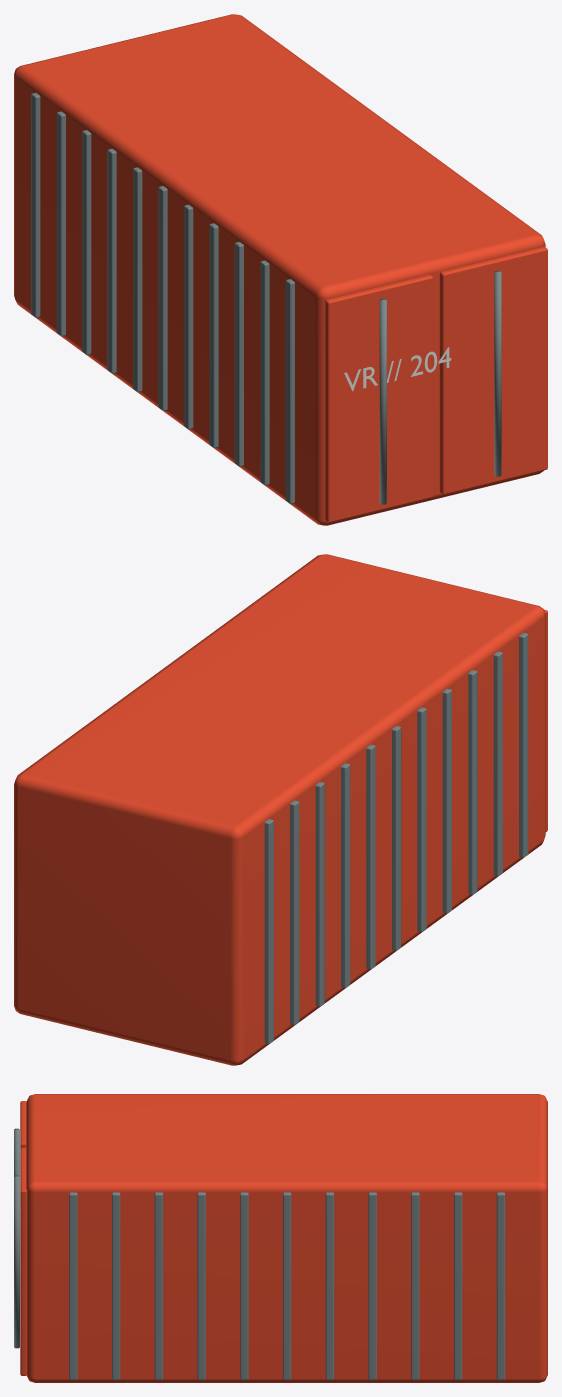
File: container_coral.glb
3 views of the same model, one above another, from view 1: azimuth 30°, elevation 25°; view 2: azimuth 150°, elevation 25°; view 3: azimuth 270°, elevation 25° (orthographic). The views are drawn at different scales.
Visible parts, largest first — view 1: container_coral; view 2: container_coral; view 3: container_coral.
Part boxes in pixels (x1,y1,x2,y2): container_coral: (14,14,547,525); container_coral: (14,554,547,1065); container_coral: (14,1094,547,1382).
Size of the model in its own units: 2.71 by 2.6 by 6.25.
